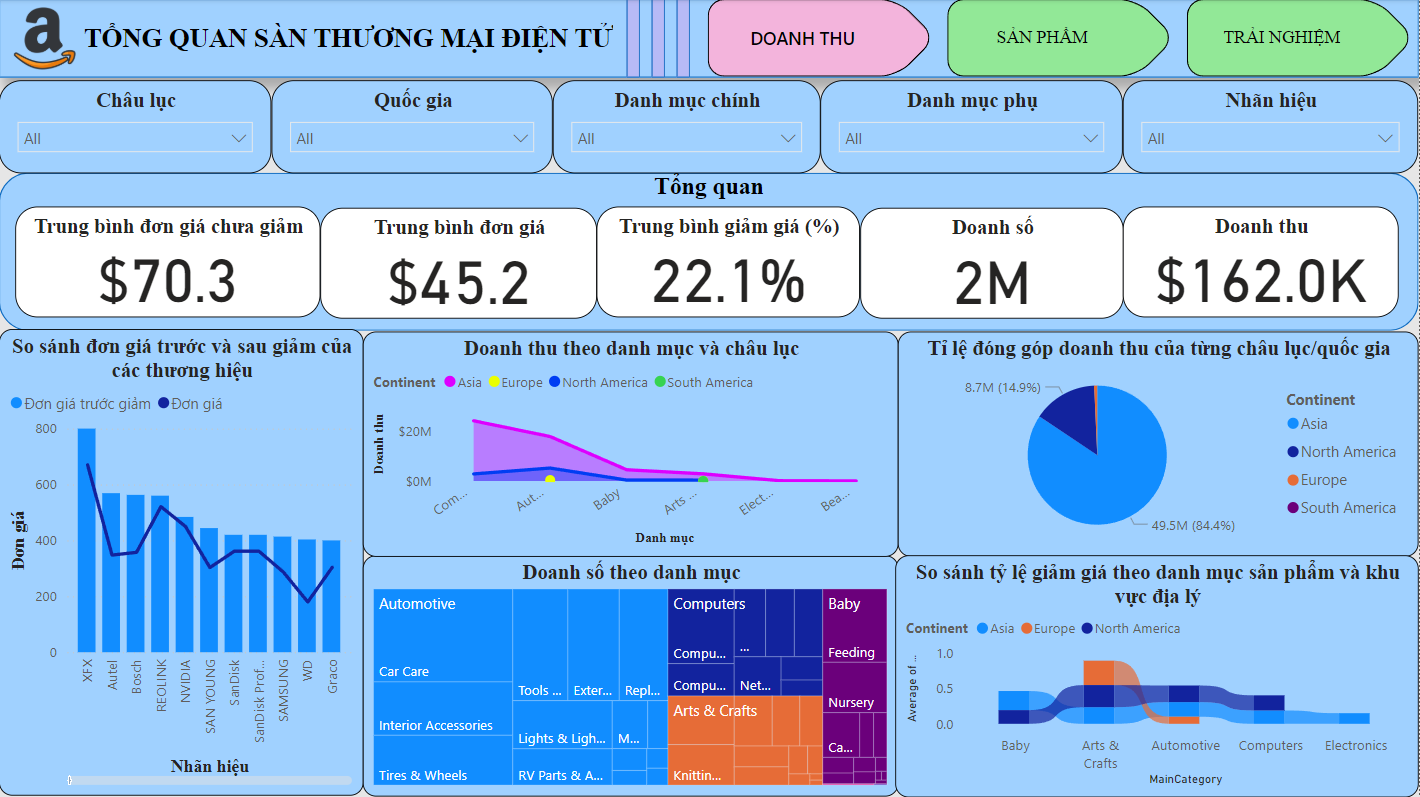

The dashboard page shown, as its layout file describes it:
{"tool":"powerbi","page":{"name":"DOANH THU","canvas":[1280,720],"ordinal":0},"visuals":[{"type":"shape","box":[0,156.2,1280,142.5],"z":0},{"type":"shape","box":[0,0,1280.3,70.9],"z":1000},{"type":"image","box":[0,0,82.3,71.4],"z":2000},{"type":"slicer","title":"Danh mục chính","fields":{"Values":["staging dim_category.MainCategory"]},"box":[499.5,72.7,241.5,83.7],"z":3000},{"type":"slicer","title":"Danh mục phụ","fields":{"Values":["staging dim_category.SubCategory"]},"box":[741,72.7,273.1,83.7],"z":4000},{"type":"slicer","title":"Quốc gia","fields":{"Values":["staging dim_geolocation.CountryofOrigin"]},"box":[245.6,72.7,253.9,83.7],"z":5000},{"type":"card","title":"Trung bình đơn giá","fields":{"Values":["Avg(staging fact_sale.price)"]},"box":[289.5,188,249.7,100.2],"z":6000},{"type":"card","title":"Trung bình giảm giá (%)","fields":{"Values":["Avg(staging fact_sale.discount_percentage)"]},"box":[538.8,187.5,237.5,100],"z":7000},{"type":"card","title":"Doanh số","fields":{"Values":["Sum(staging fact_sale.units_sold_last_month)"]},"box":[776.7,188,237.4,100.2],"z":8000},{"type":"card","title":"Trung bình đơn giá chưa giảm","fields":{"Values":["Avg(staging fact_sale.price_before_discount)"]},"box":[15,187.5,275,100],"z":9000},{"type":"card","title":"Doanh thu","fields":{"Values":["Sum(staging fact_sale.Total)"]},"box":[1013.8,187.5,248.8,100],"z":10000},{"type":"slicer","title":"Nhãn hiệu","fields":{"Values":["staging dim_brand.Brand"]},"box":[1013.8,72.7,266.2,83.7],"z":11000},{"type":"lineStackedColumnComboChart","title":"So sánh đơn giá trước và sau giảm của các thương hiệu","fields":{"Category":["staging dim_brand.Brand"],"Y2":["Avg(staging fact_sale.price)"],"Y":["Avg(staging fact_sale.price_before_discount)"]},"box":[0,298.1,328.6,421.2],"z":12000},{"type":"treemap","title":"Doanh số theo danh mục","fields":{"Group":["staging dim_category.MainCategory"],"Details":["staging dim_category.SubCategory"],"Values":["Sum(staging fact_sale.units_sold_last_month)"]},"box":[327.7,501.4,483,217.7],"z":13000},{"type":"areaChart","title":"Doanh thu theo danh mục và châu lục","fields":{"Y":["Sum(staging fact_sale.sale)"],"Category":["staging dim_category.MainCategory"],"Series":["staging dim_geolocation.Continent"]},"box":[327.7,299.6,483,203],"z":14000},{"type":"pieChart","title":"Tỉ lệ đóng góp doanh thu của từng châu lục/quốc gia","fields":{"Y":["Sum(staging fact_sale.sale)"],"Category":["staging dim_geolocation.Continent","staging dim_geolocation.CountryofOrigin"]},"box":[810.7,299.6,469.6,203],"z":15000},{"type":"ribbonChart","title":"So sánh tỷ lệ giảm giá theo danh mục sản phẩm và khu vực địa lý","fields":{"Category":["staging dim_category.MainCategory"],"Y":["Avg(staging fact_sale.discount_percentage)"],"Series":["staging dim_geolocation.Continent"]},"box":[808,501.8,472,218.2],"z":16000},{"type":"shape","box":[566.2,0,12.2,70.9],"z":17000},{"type":"slicer","title":"Châu lục","fields":{"Values":["staging dim_geolocation.Continent"]},"box":[0,72.7,245.6,83.7],"z":18000},{"type":"shape","box":[611.4,0,12.2,70.9],"z":19000},{"type":"shape","box":[588.2,0,12.2,70.9],"z":20000},{"type":"pageNavigator","box":[639.2,0,640.8,70.9],"z":21000}]}

Visuals, with their boxes in screenshot pixels (x1, y1, x2, y2), scaled from the page's 1280x720 canvas onto the 1420x797 screenshot:
shape: (0, 173, 1419, 331)
shape: (0, 0, 1419, 78)
image: (0, 0, 91, 79)
"Danh mục chính" slicer: (554, 80, 822, 173)
"Danh mục phụ" slicer: (822, 80, 1125, 173)
"Quốc gia" slicer: (272, 80, 554, 173)
"Trung bình đơn giá" card: (321, 208, 598, 319)
"Trung bình giảm giá (%)" card: (598, 208, 861, 318)
"Doanh số" card: (862, 208, 1125, 319)
"Trung bình đơn giá chưa giảm" card: (17, 208, 322, 318)
"Doanh thu" card: (1125, 208, 1401, 318)
"Nhãn hiệu" slicer: (1125, 80, 1419, 173)
"So sánh đơn giá trước và sau giảm của các thương hiệu" lineStackedColumnComboChart: (0, 330, 365, 796)
"Doanh số theo danh mục" treemap: (364, 555, 899, 796)
"Doanh thu theo danh mục và châu lục" areaChart: (364, 332, 899, 556)
"Tỉ lệ đóng góp doanh thu của từng châu lục/quốc gia" pieChart: (899, 332, 1419, 556)
"So sánh tỷ lệ giảm giá theo danh mục sản phẩm và khu vực địa lý" ribbonChart: (896, 555, 1419, 796)
shape: (628, 0, 642, 78)
"Châu lục" slicer: (0, 80, 272, 173)
shape: (678, 0, 692, 78)
shape: (653, 0, 666, 78)
pageNavigator: (709, 0, 1419, 78)
